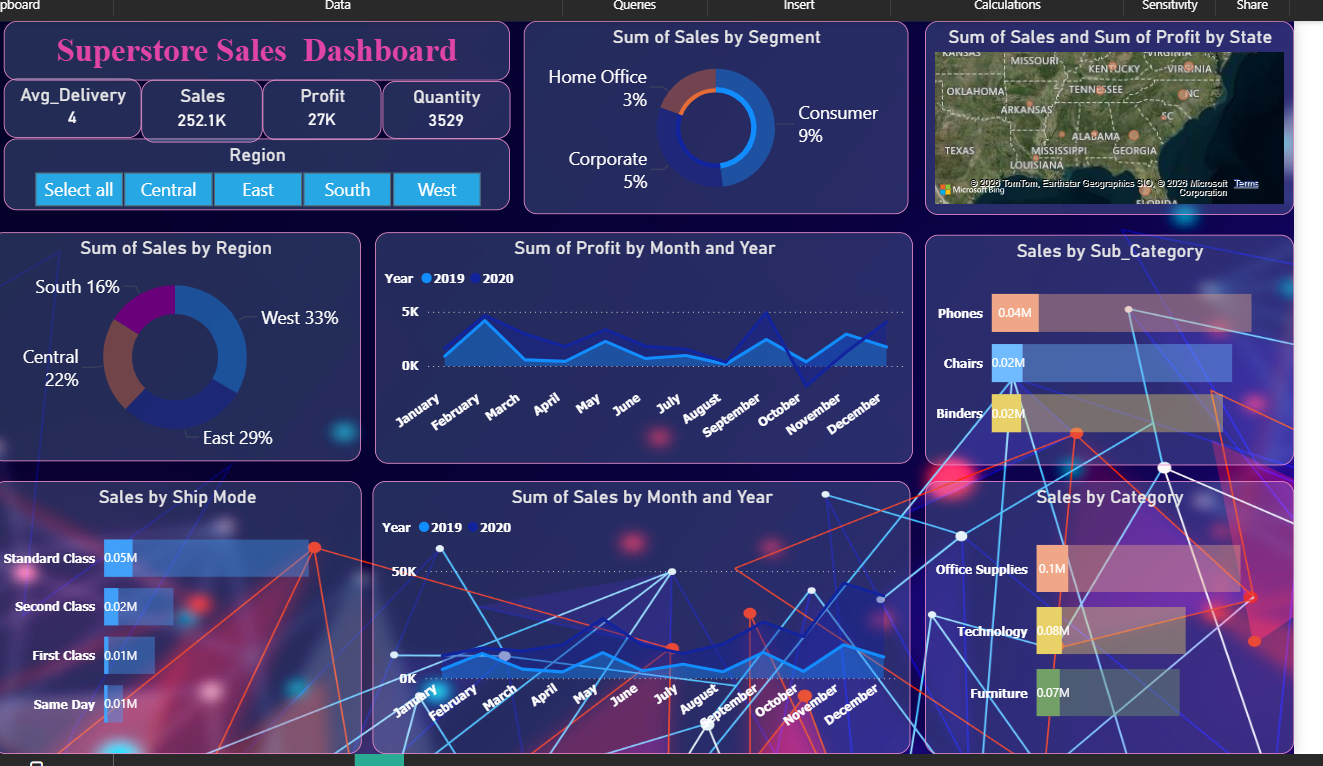

The page's visual inventory and layout, read from the dashboard file:
{"tool":"powerbi","page":{"name":"Dashboard Overview ","canvas":[1280,720],"ordinal":0},"visuals":[{"type":"clusteredBarChart","title":"Sales by category","fields":{"Category":["Sheet1.Category"],"Y":["Sum(Sheet1.Sales)"]},"box":[1.2,530.1,342.3,190.2],"z":0},{"type":"clusteredBarChart","title":"Sales by sub_category","fields":{"Category":["Sheet1.Sub-Category"],"Y":["Sum(Sheet1.Sales)"]},"box":[0,94.5,333.7,227],"z":1000},{"type":"clusteredBarChart","title":"Sales by Ship_mode","fields":{"Category":["Sheet1.Ship Mode"],"Y":["Sum(Sheet1.Sales)"]},"box":[0,335,333.7,181.6],"z":2000},{"type":"stackedAreaChart","fields":{"Category":["Sheet1.Order Date.Variation.Date Hierarchy.Month"],"Y":["Sum(Sheet1.Sales)"],"Series":["Sheet1.Order Date.Variation.Date Hierarchy.Year"]},"box":[358.3,193.9,564.4,254],"z":3000},{"type":"stackedAreaChart","fields":{"Category":["Sheet1.Order Date.Variation.Date Hierarchy.Month"],"Series":["Sheet1.Order Date.Variation.Date Hierarchy.Year"],"Y":["Sum(Sheet1.Profit)"]},"box":[358.3,457.7,564.4,262.6],"z":4000},{"type":"map","fields":{"Category":["Sheet1.State"],"Size":["Sum(Sheet1.Sales)"]},"box":[949.7,7.4,330.1,323.9],"z":5000},{"type":"donutChart","fields":{"Category":["Sheet1.Segment"],"Y":["Sum(Sheet1.Sales)"]},"box":[949.7,530.1,319,190.2],"z":6000},{"type":"donutChart","fields":{"Category":["Sheet1.Region"],"Y":["Sum(Sheet1.Sales)"]},"box":[949.7,335,319,195.1],"z":7000},{"type":"slicer","title":"region","fields":{"Values":["Sheet1.Region"]},"box":[358.3,120.2,564.4,73.6],"z":8000},{"type":"textbox","box":[0,7.4,530.1,76.1],"z":9000},{"type":"card","title":"ship days","fields":{"Values":["Avg(Sheet1.AvgDelivery)"]},"box":[1141.1,130.1,138.7,101.8],"z":11000},{"type":"cardVisual","title":"Total Sales","fields":{"Data":["Sum(Sheet1.Sales)"]},"box":[764.4,0,147,100],"z":11001},{"type":"cardVisual","fields":{"Data":["Sum(Sheet1.Profit)"]},"box":[592.6,1.2,159.5,98.2],"z":11002}]}

Visuals, with their boxes on the page's 1280x720 design canvas (x1, y1, x2, y2). These are canvas units, not pixel positions in the 1323x766 screenshot, which may show the page scaled, cropped or inside an application window:
"Sales by category" clusteredBarChart: (left=1, top=530, right=344, bottom=720)
"Sales by sub_category" clusteredBarChart: (left=0, top=94, right=334, bottom=322)
"Sales by Ship_mode" clusteredBarChart: (left=0, top=335, right=334, bottom=517)
stackedAreaChart - Sheet1.Order Date.Variation.Date Hierarchy.Month x Sum(Sheet1.Sales): (left=358, top=194, right=923, bottom=448)
stackedAreaChart - Sheet1.Order Date.Variation.Date Hierarchy.Month x Sheet1.Order Date.Variation.Date Hierarchy.Year: (left=358, top=458, right=923, bottom=720)
map - Sheet1.State x Sum(Sheet1.Sales): (left=950, top=7, right=1280, bottom=331)
donutChart - Sheet1.Segment x Sum(Sheet1.Sales): (left=950, top=530, right=1269, bottom=720)
donutChart - Sheet1.Region x Sum(Sheet1.Sales): (left=950, top=335, right=1269, bottom=530)
"region" slicer: (left=358, top=120, right=923, bottom=194)
textbox: (left=0, top=7, right=530, bottom=84)
"ship days" card: (left=1141, top=130, right=1280, bottom=232)
"Total Sales" cardVisual: (left=764, top=0, right=911, bottom=100)
cardVisual - Sum(Sheet1.Profit): (left=593, top=1, right=752, bottom=99)
